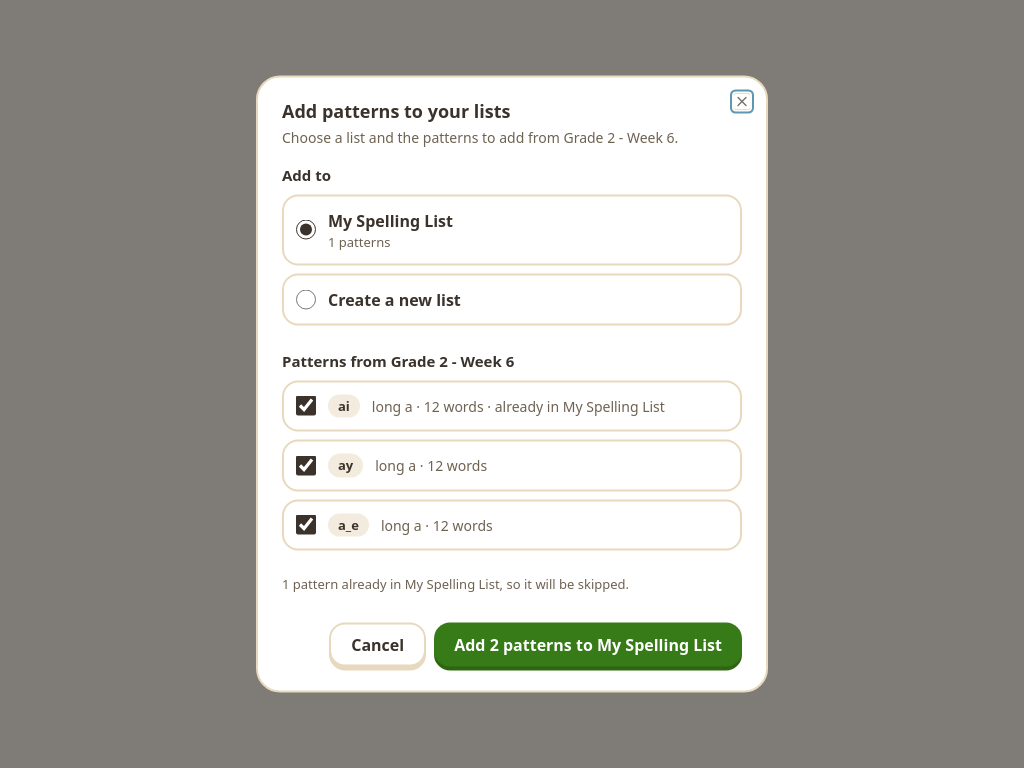
Test case: PullPatternsModal › disables confirm when no patterns are checked
Expected: the text "My Spelling List" is shown, [328, 209, 453, 231]
Click the checkbox labelled "ai long a · 12 words · already in My Spelling List": click(306, 406) [296, 396, 316, 416]
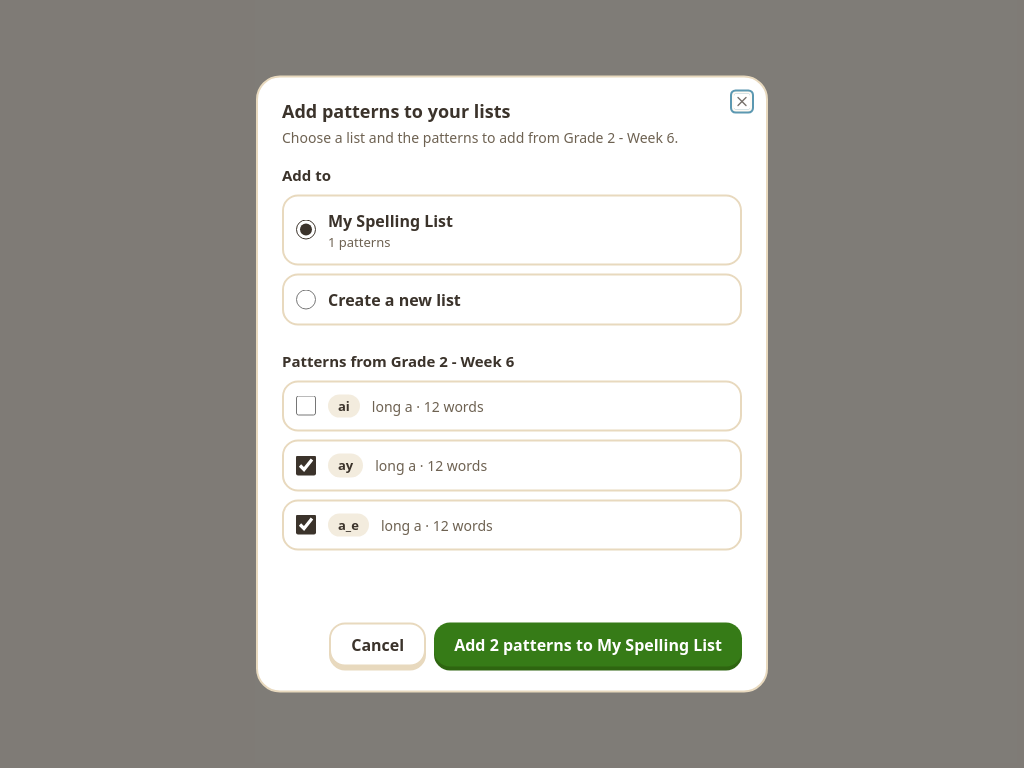
Click the checkbox labelled "ay long a · 12 words": click(306, 465) [296, 455, 316, 475]
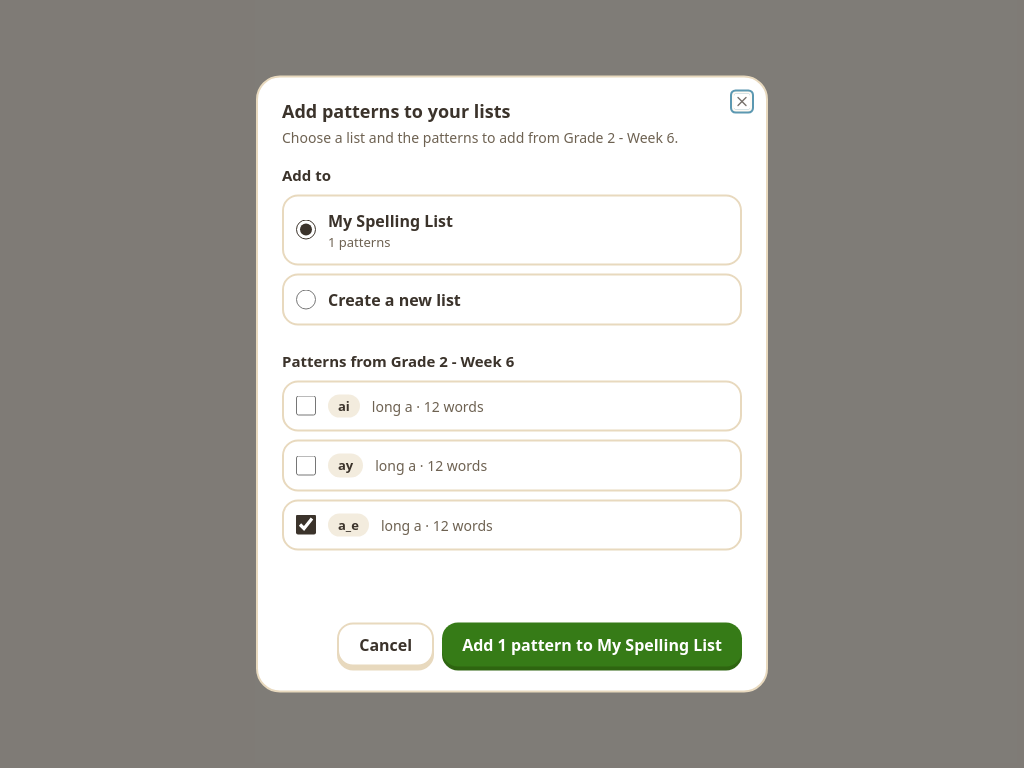
Click the checkbox labelled "a_e long a · 12 words": click(306, 525) [296, 515, 316, 535]
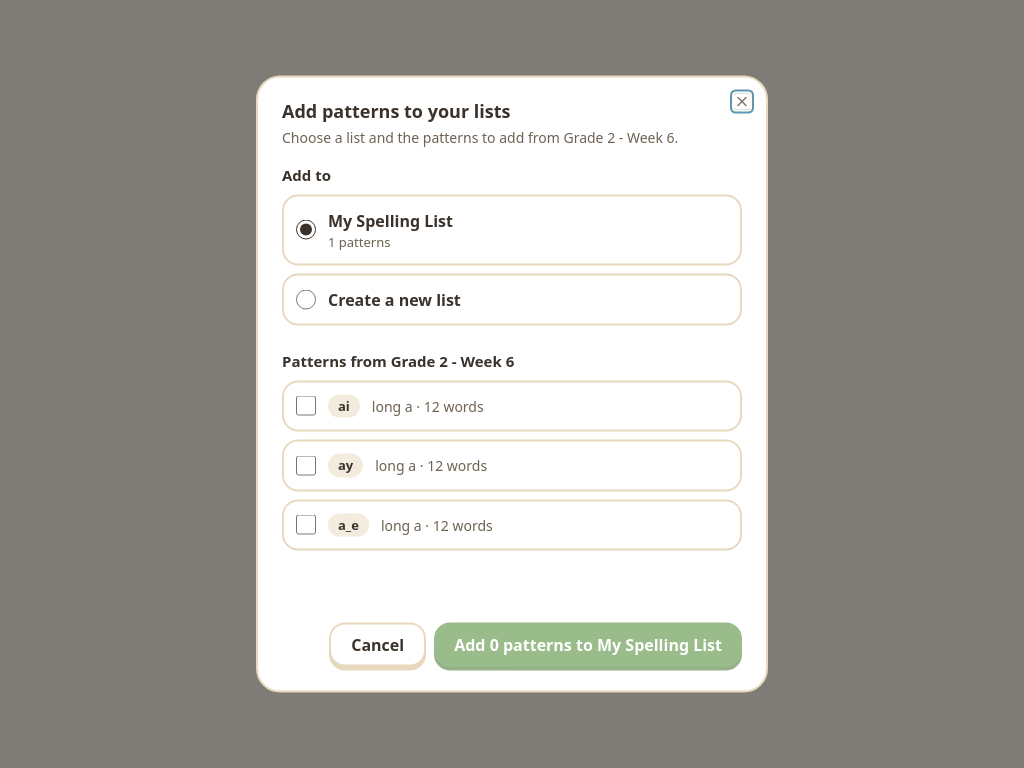
Now the button "Add 0 patterns to My Spelling List" is disabled, box [434, 622, 742, 666]
